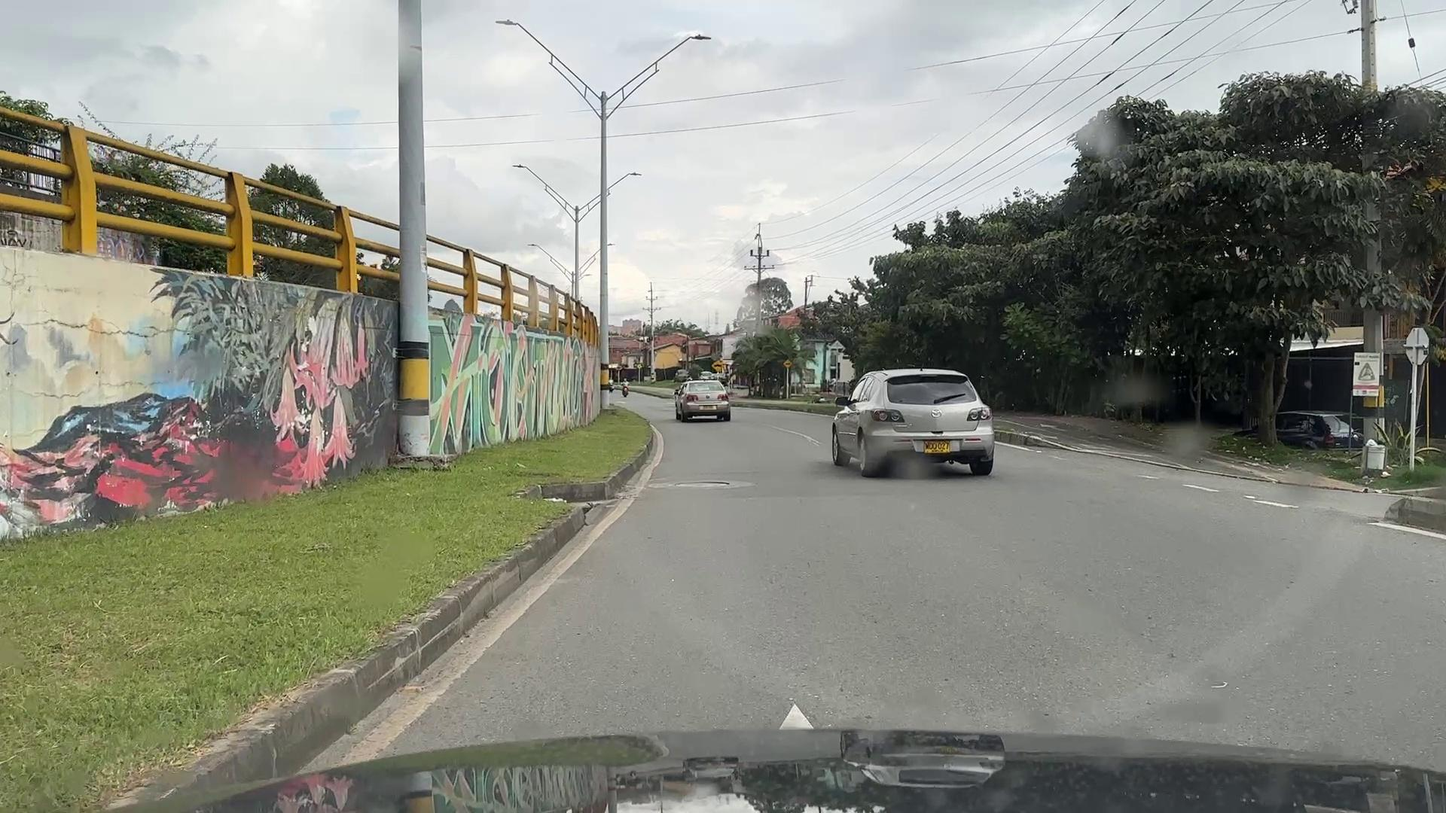registro: (674, 482, 730, 487)
